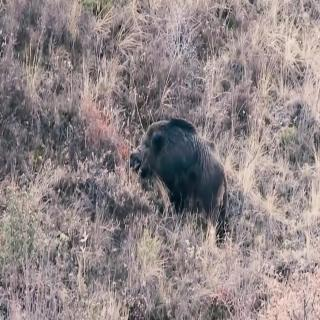Pig: (125, 108, 240, 242)
